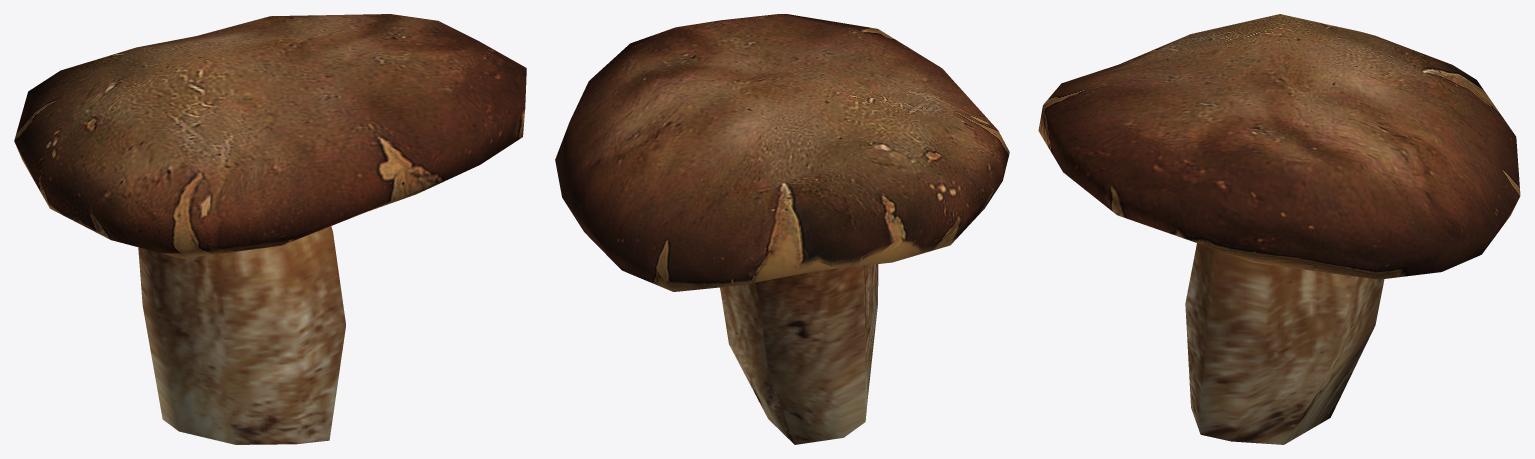
Rendered from Mushroom1.fbx.
3 renders of one model, left to right at view 1: azimuth 30°, elevation 25°; view 2: azimuth 150°, elevation 25°; view 3: azimuth 270°, elevation 25°, orthographic. The views are drawn at different scales.
Visible parts, largest first — view 1: Mushroom1; view 2: Mushroom1; view 3: Mushroom1.
Part boxes in pixels (<box>): Mushroom1: <box>14,14,526,444</box>; Mushroom1: <box>555,14,1009,444</box>; Mushroom1: <box>1038,14,1520,444</box>.
Bounding box in the file's own units: 19.22 × 16.12 × 18.8.
